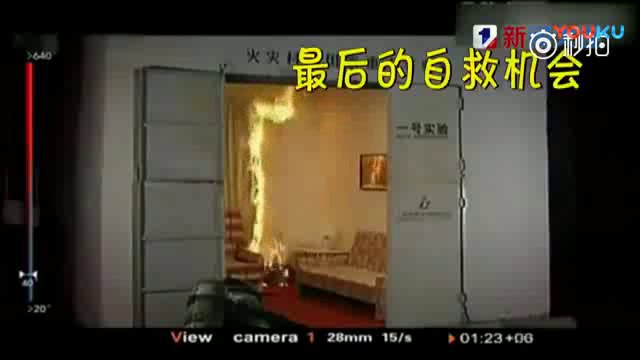fire: (249, 86, 295, 272)
